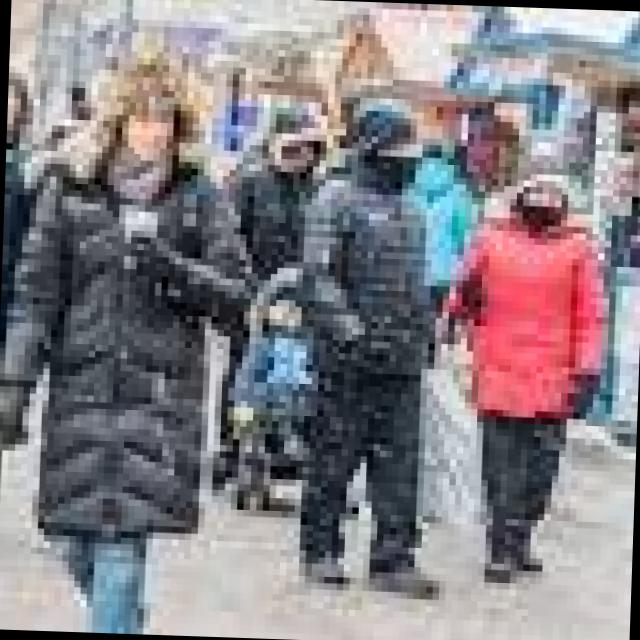Jacket: (0, 143, 239, 546), (442, 218, 616, 425), (289, 174, 451, 377)
